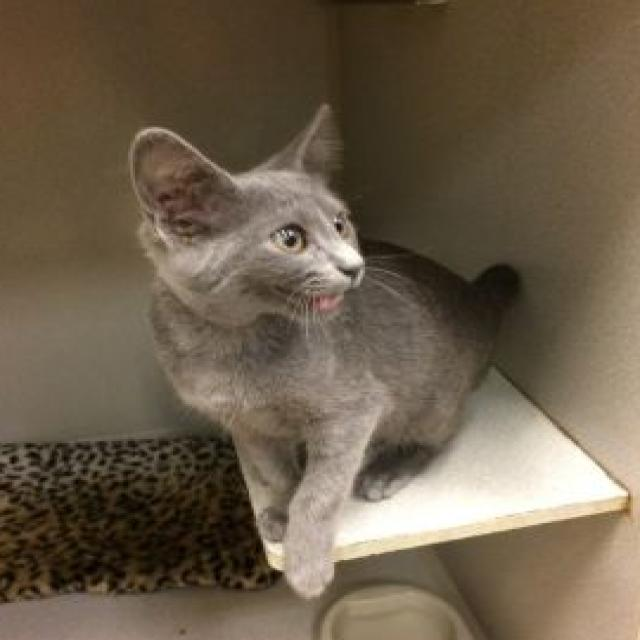Russian Blue: (127, 100, 528, 601)
